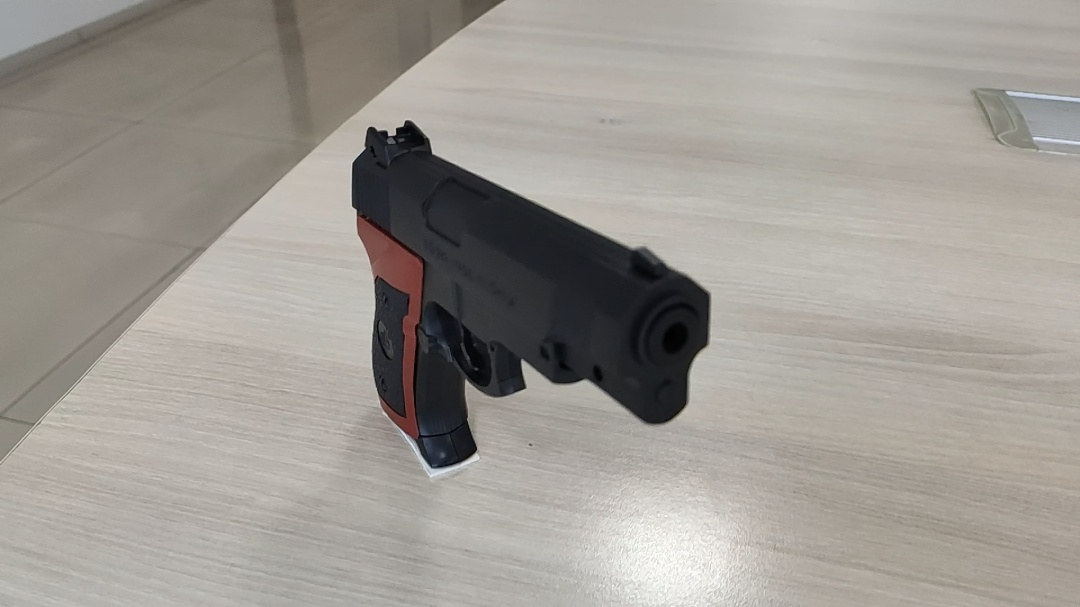gun: (347, 118, 714, 473)
